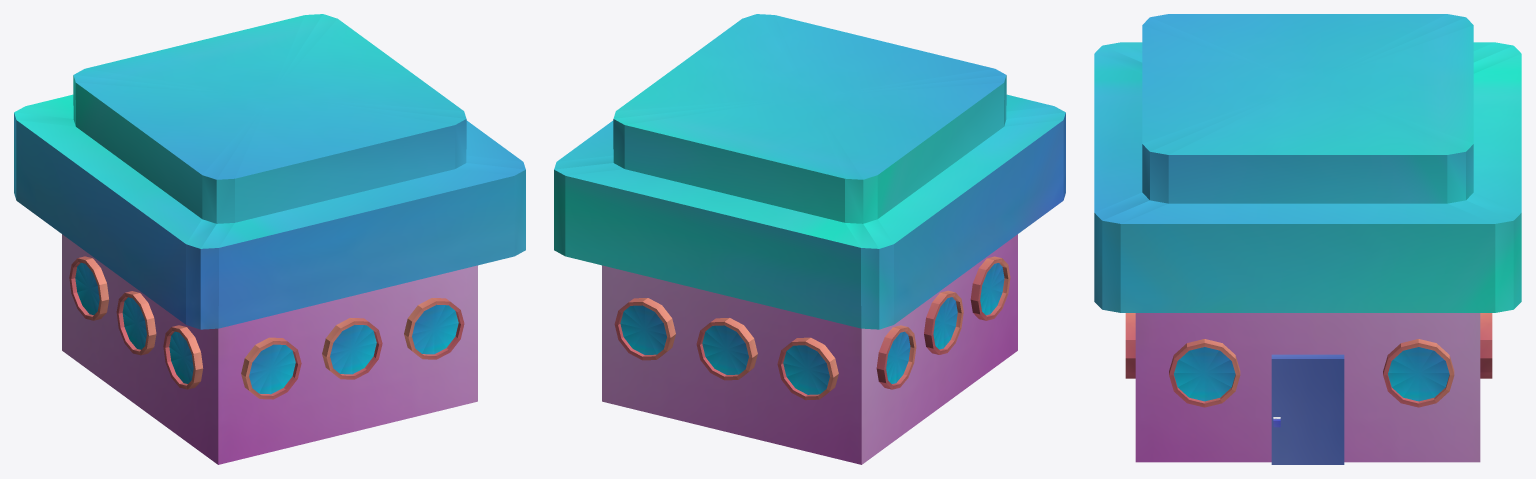
File: House_7.glb
3 renders of one model, left to right at view 1: azimuth 30°, elevation 25°; view 2: azimuth 150°, elevation 25°; view 3: azimuth 270°, elevation 25°, orthographic. The views are drawn at different scales.
Parts seen in each view (by area): view 1: House_7; view 2: House_7; view 3: House_7.
Boxes of the visible parts, x1=… form: House_7: x1=14, y1=14, x2=525, y2=464; House_7: x1=554, y1=14, x2=1065, y2=464; House_7: x1=1094, y1=14, x2=1521, y2=464.
Size of the model in its own units: 801 by 634 by 796.
Materials: 1 (1 with a texture image).
